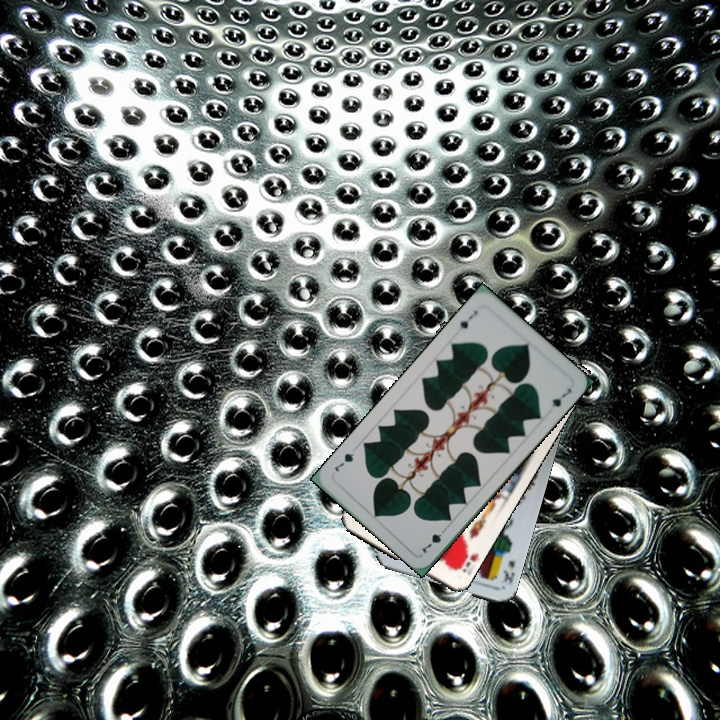EK: (499, 556, 517, 587)
G7: (418, 523, 450, 556), (452, 306, 480, 334)
HK: (450, 541, 473, 576)
